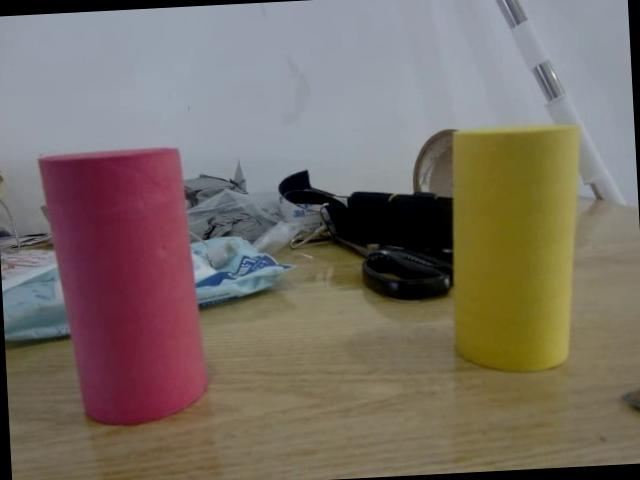red_cylinder: (38, 146, 209, 432)
yellow_cylinder: (442, 122, 591, 375)
